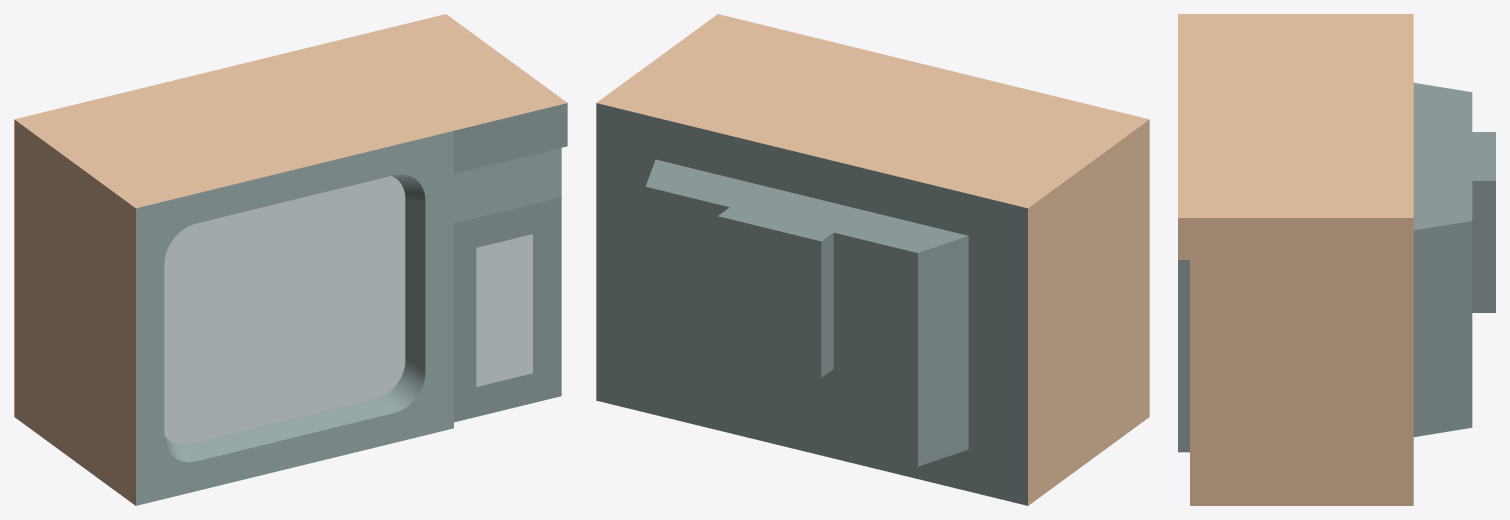
3 views of the same model, side by side, from view 1: azimuth 30°, elevation 25°; view 2: azimuth 150°, elevation 25°; view 3: azimuth 270°, elevation 25° (orthographic). The views are drawn at different scales.
Parts seen in each view (by area): view 1: televisionVintage(Clone); view 2: televisionVintage(Clone); view 3: televisionVintage(Clone).
Boxes of the visible parts, box(x1,y1,x2,y2) form: televisionVintage(Clone): box(14, 14, 567, 505); televisionVintage(Clone): box(596, 14, 1149, 505); televisionVintage(Clone): box(1178, 14, 1495, 505).
Bounding box in the file's own units: 0.41 × 0.27 × 0.27.
